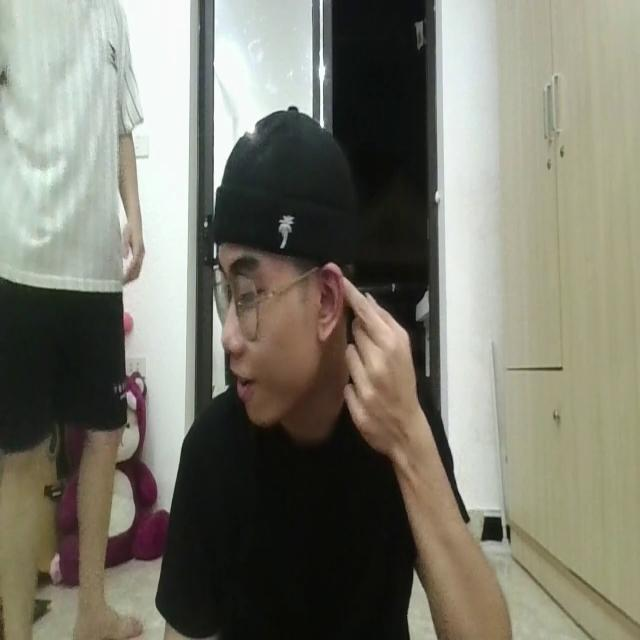extra_person: (0, 0, 147, 640)
student: (151, 104, 531, 640)
